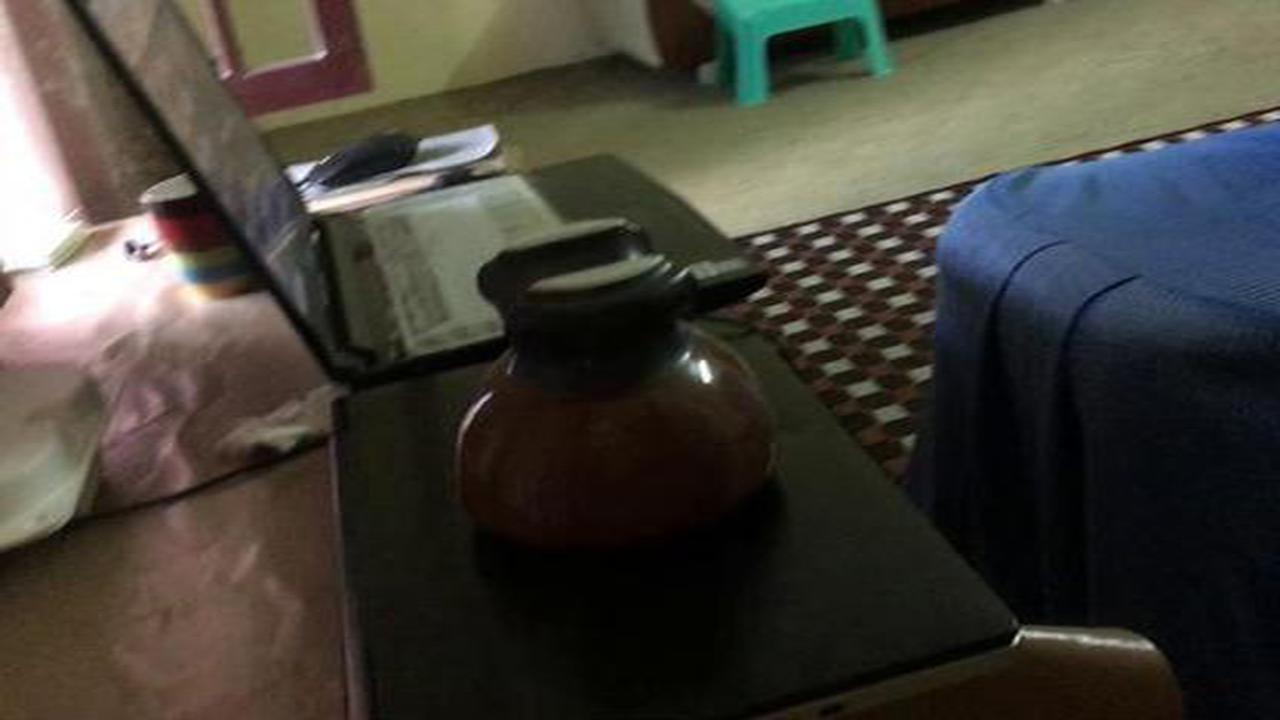insulator_pin: (437, 210, 794, 573)
